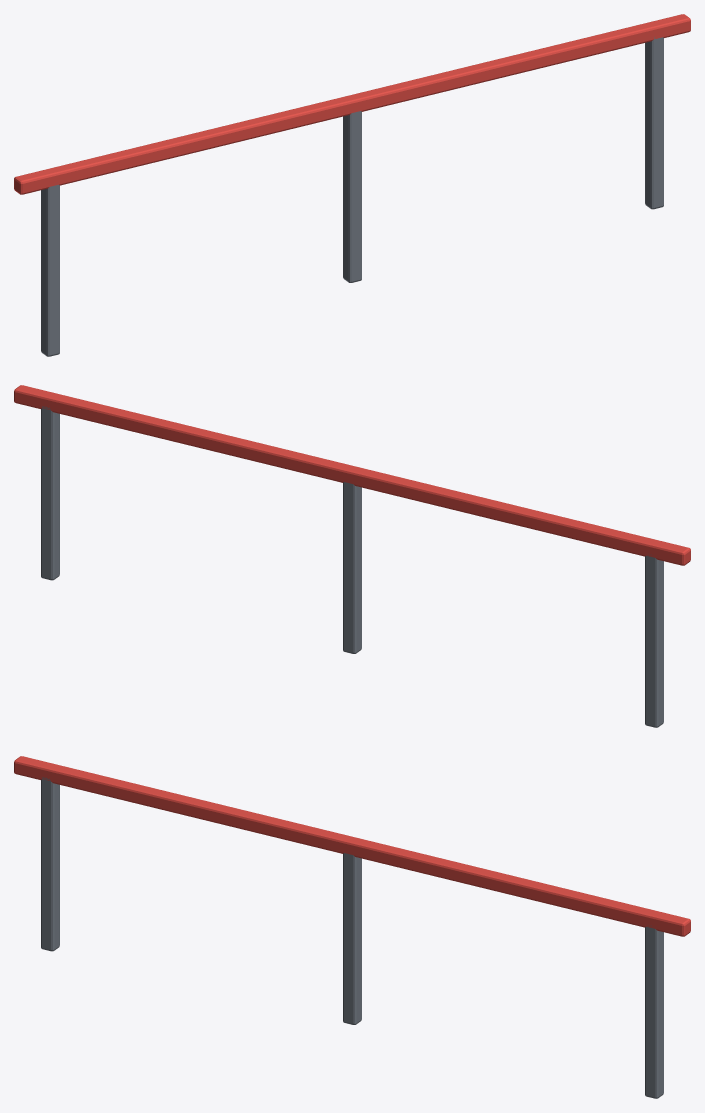
File: Parkour_Rail.fbx
The picture shows the model from 3 angles, top to bottom: view 1: azimuth 30°, elevation 25°; view 2: azimuth 150°, elevation 25°; view 3: azimuth 330°, elevation 25°; orthographic projection.
Parts seen in each view (by area): view 1: Rail; view 2: Rail; view 3: Rail.
Boxes of the visible parts, x1,y1,x2,y2 form: Rail: (14,14,690,356); Rail: (14,385,690,727); Rail: (14,756,690,1098).
Size of the model in its own units: 4 by 1.04 by 0.08.
